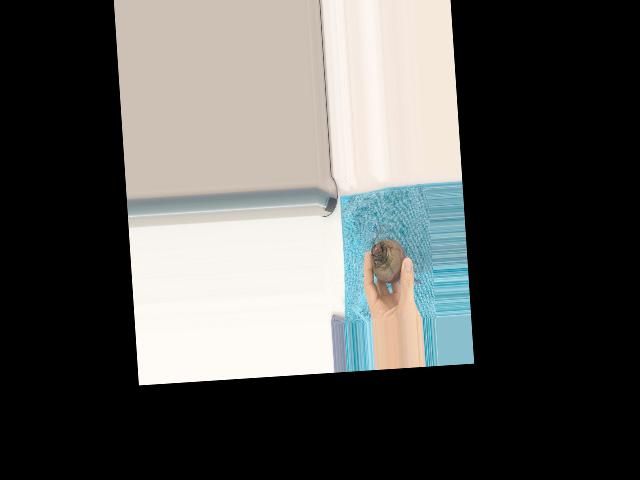beet: (369, 222, 422, 287)
